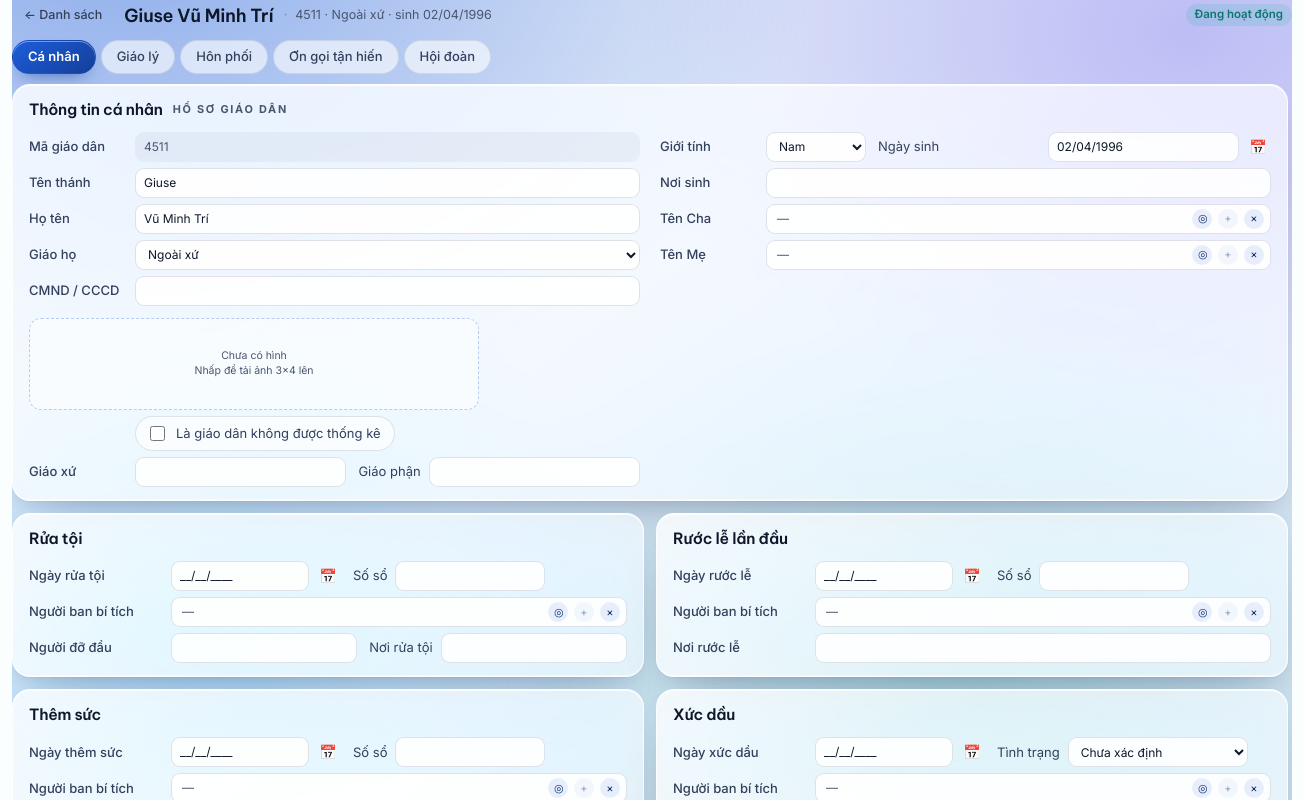
Test case: GiaoDanDetail › bam Cap nhat thi thoi bao Co thay doi chua luu (nhuong cho thong bao cua luot luu)
Type "Phan Thiết" into the dropdown labelled "Nơi sinh" at (1018, 183), box [766, 168, 1271, 198]
(page scrolled)
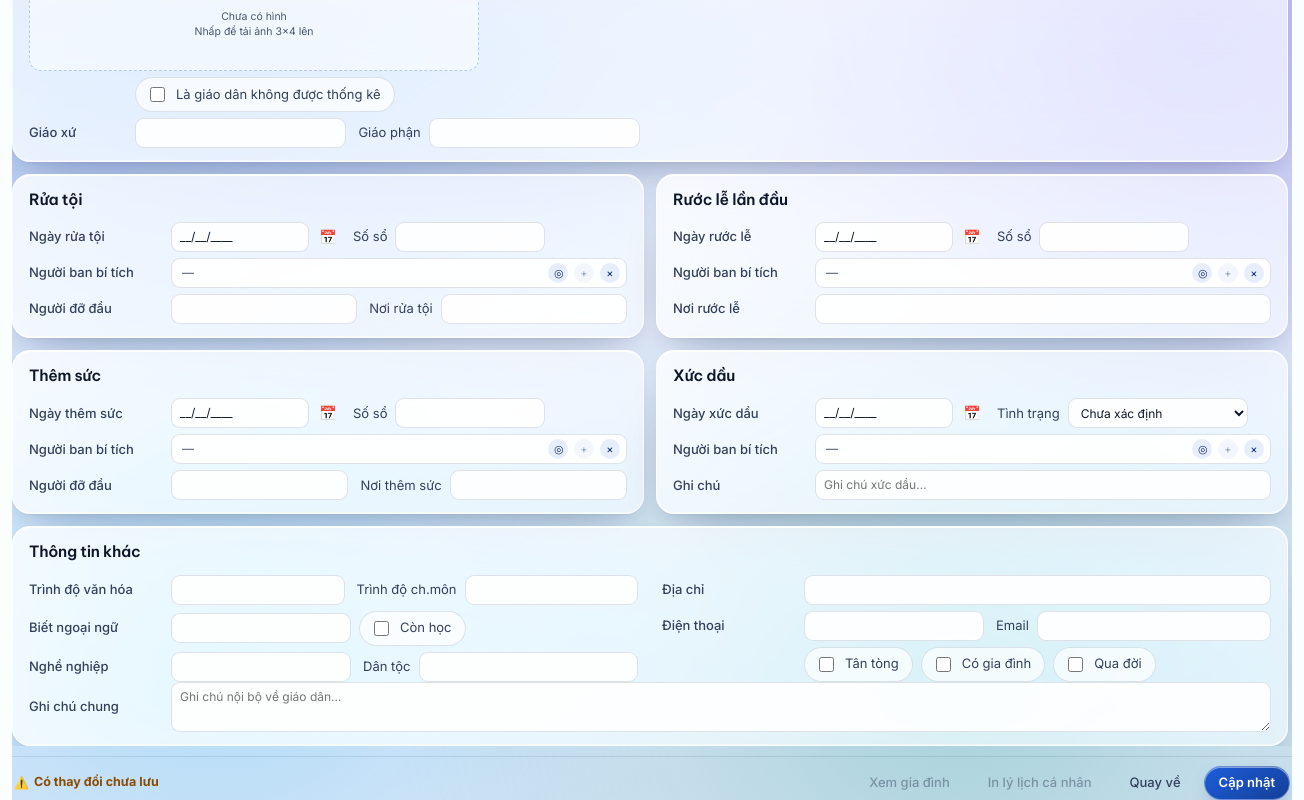
Click the button "Cập nhật" at (1247, 782), box [1204, 766, 1290, 799]
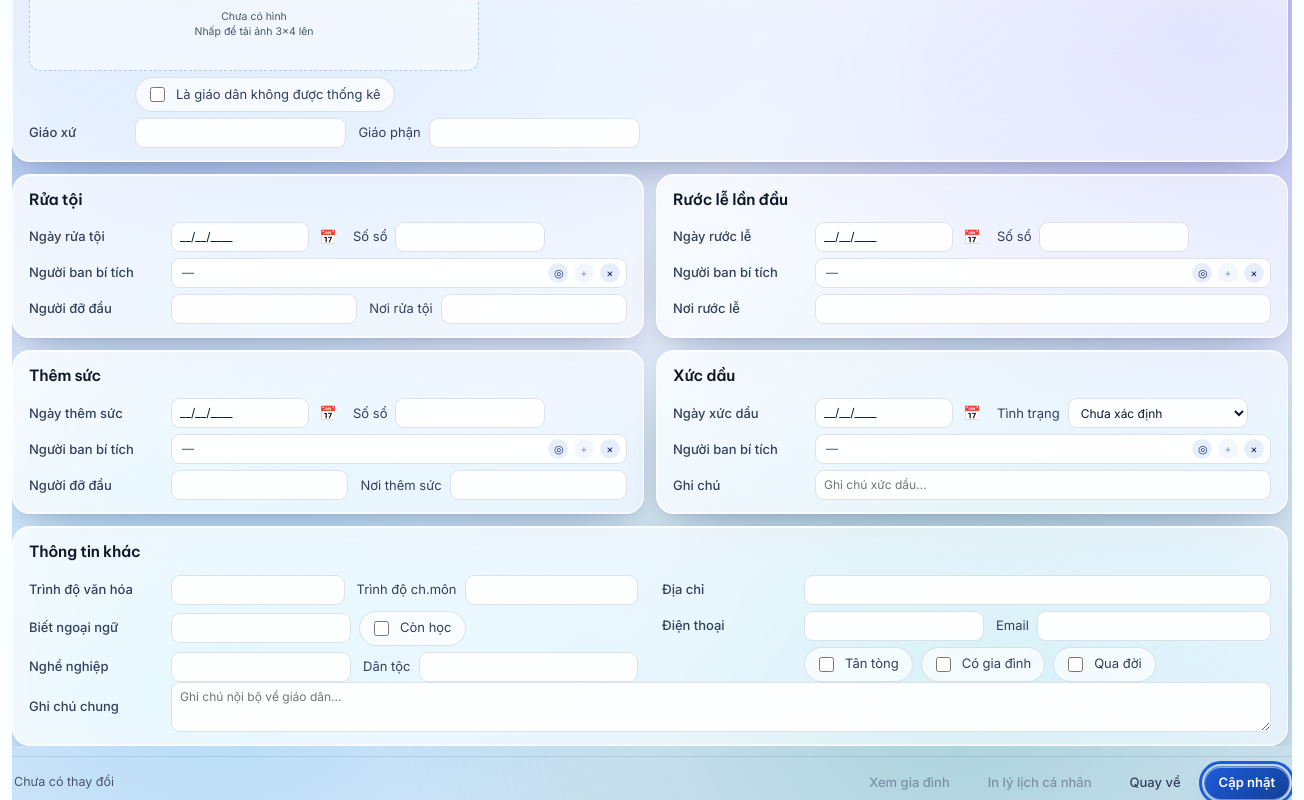
Expected: the text "Có thay đổi chưa lưu" is gone
